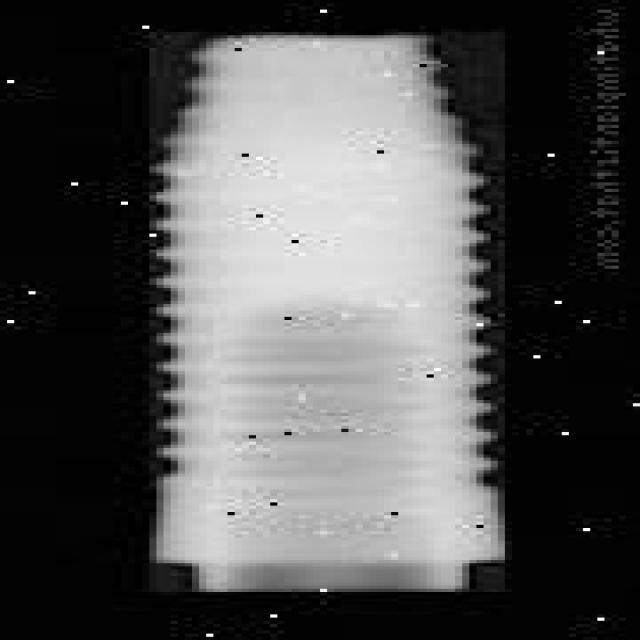Retained root: (143, 29, 505, 593)
